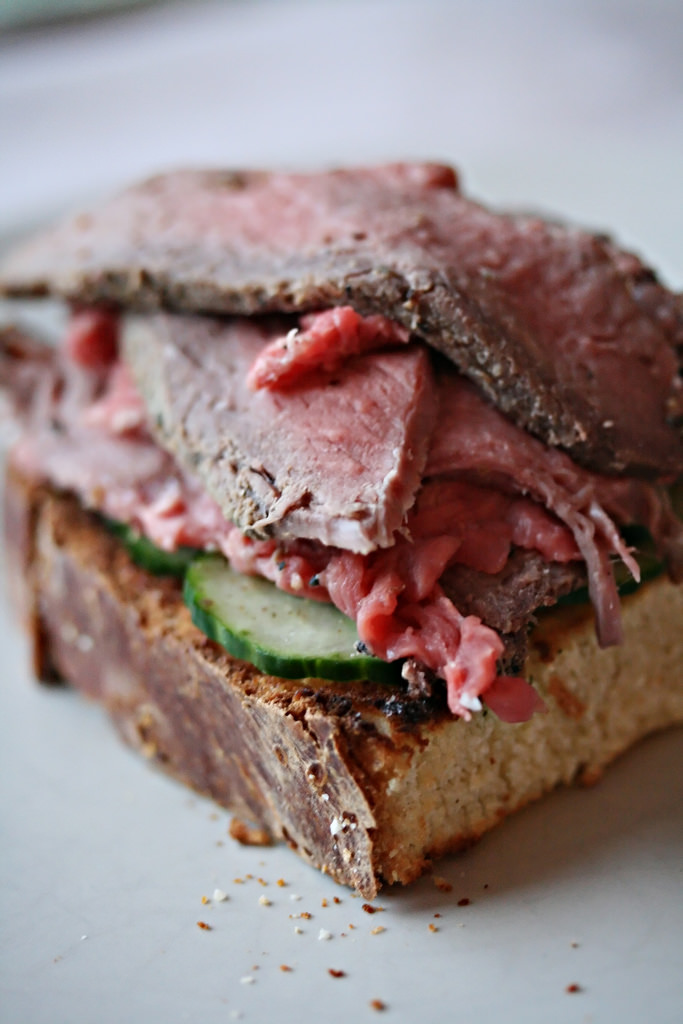slice of bread: (56, 558, 589, 847)
